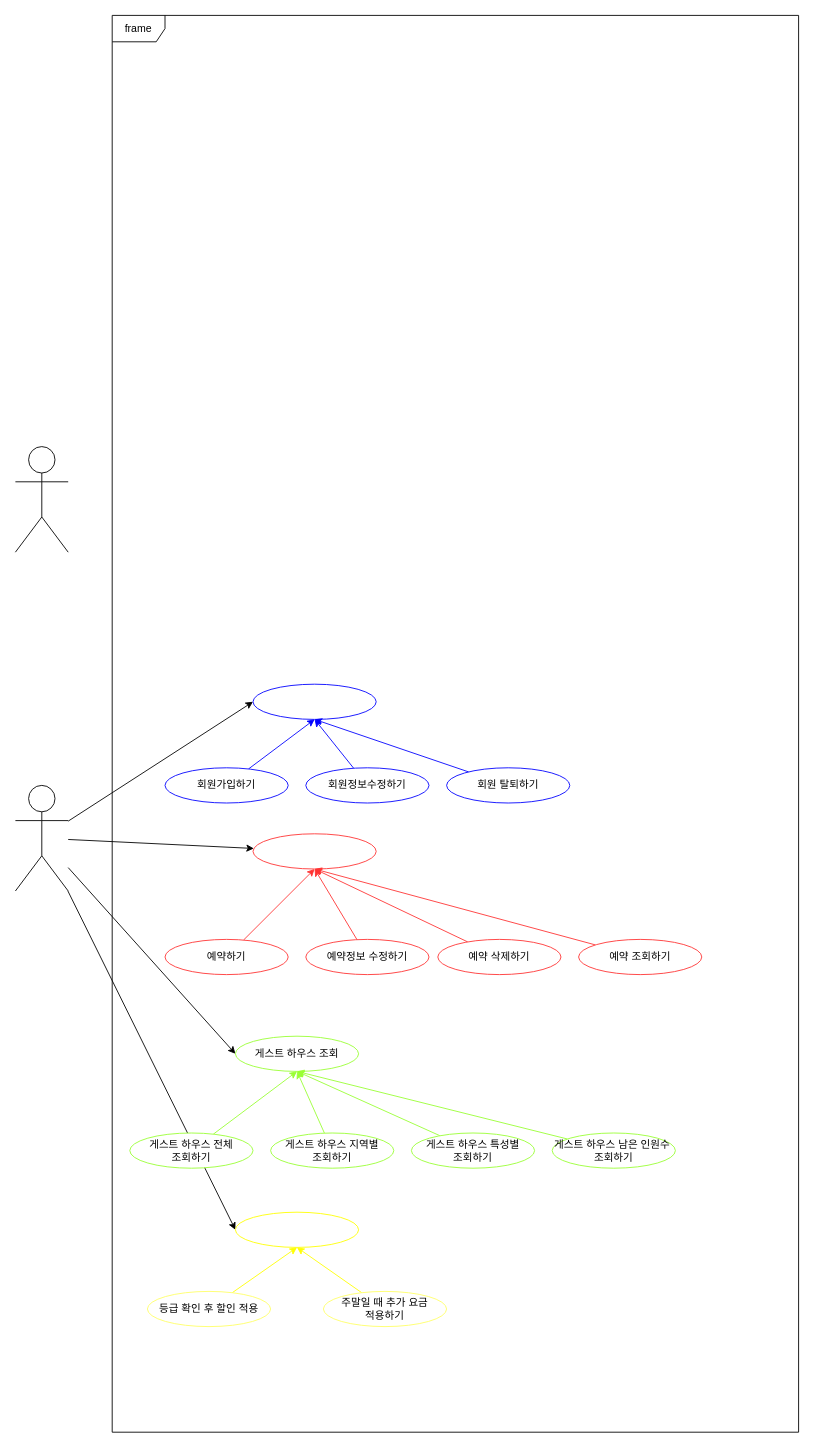
This 814x1448 diagram has some shape labels left out. The shapes that lost their labels are listed below. From the top down, each one's centre as x and y in pixels, then its label:
point (41, 499): 관리자
point (314, 701): 회원 기능
point (41, 838): 일반사용자
point (314, 851): 예약 기능
point (297, 1229): 요금 관련
